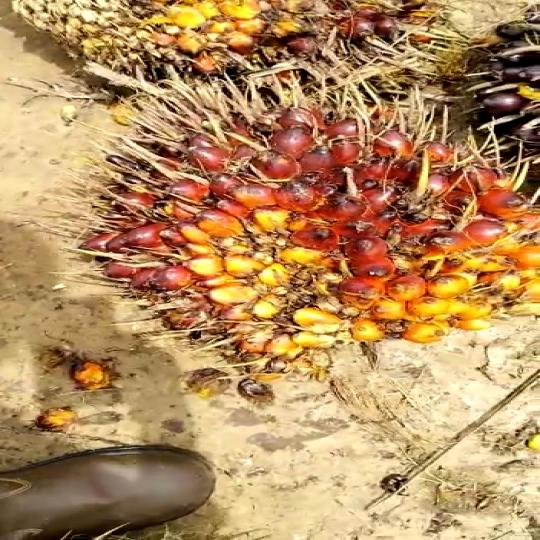masak: (65, 81, 540, 392)
